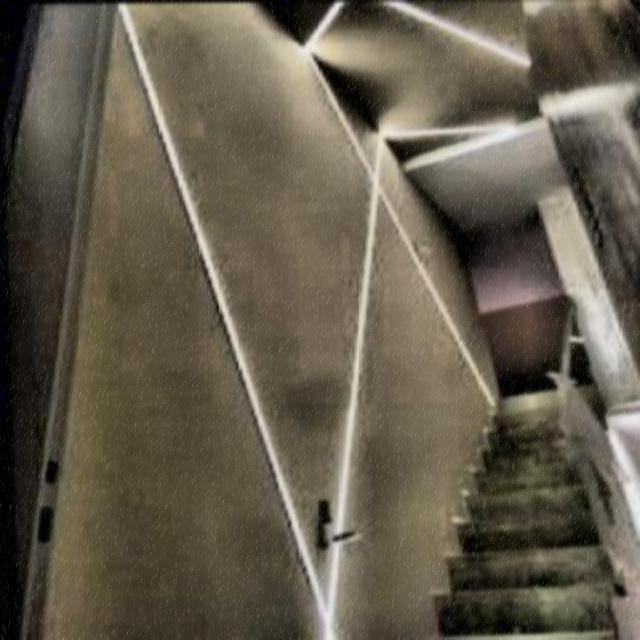stair: (371, 394, 640, 640)
